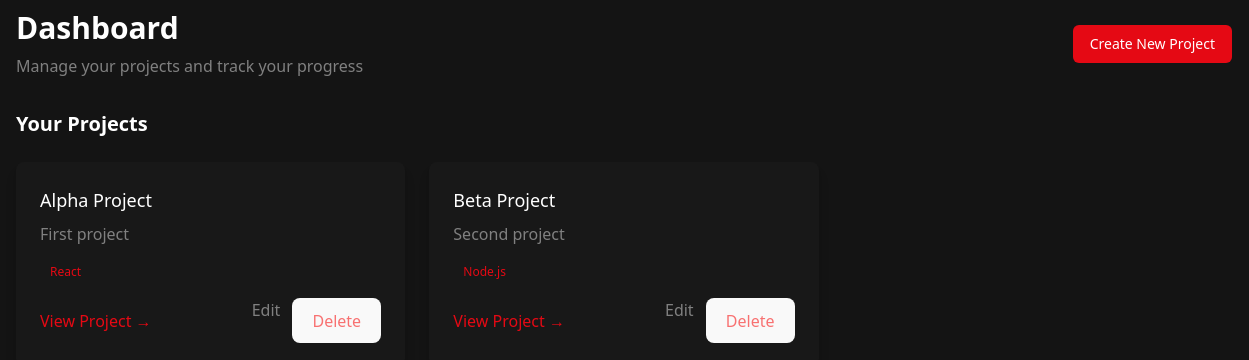
Test: Dashboard › deletes a project and removes it from the list after confirmation
Check: the heading "Alpha Project" is shown, box [40,188,152,212]
Click the button "Delete" below "React": click(337, 321) [292,298,381,343]
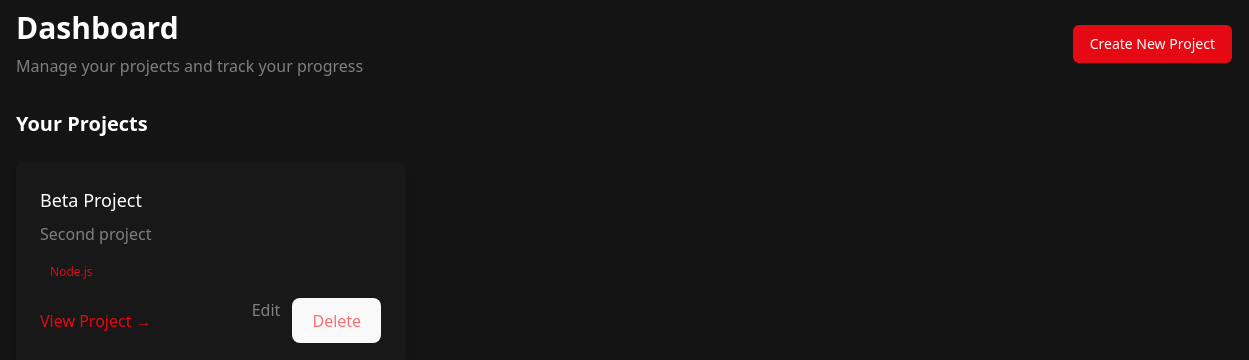
Check: the heading "Alpha Project" is gone
